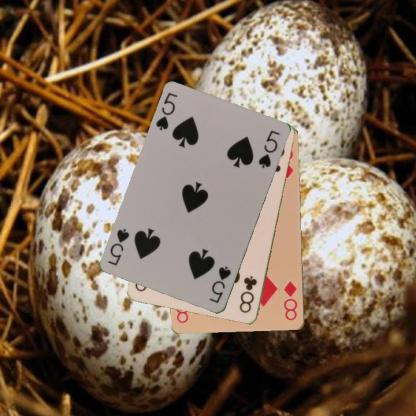5s: (153, 90, 179, 132), (207, 264, 233, 304)
8c: (237, 273, 259, 315)
8d: (281, 278, 299, 323)
